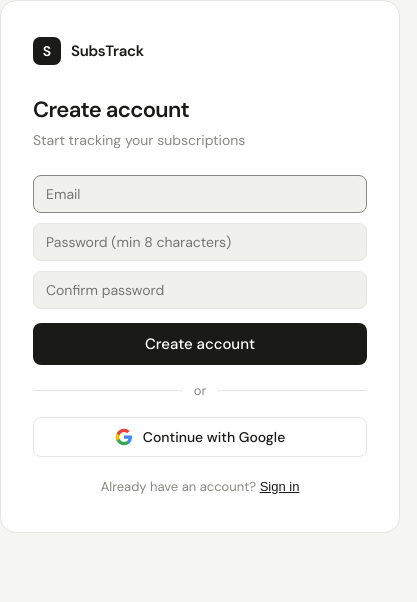
Register › shows error when passwords do not match
Type "a@b.com" into the field with placeholder "Email" at (200, 194), box [33,175,367,213]
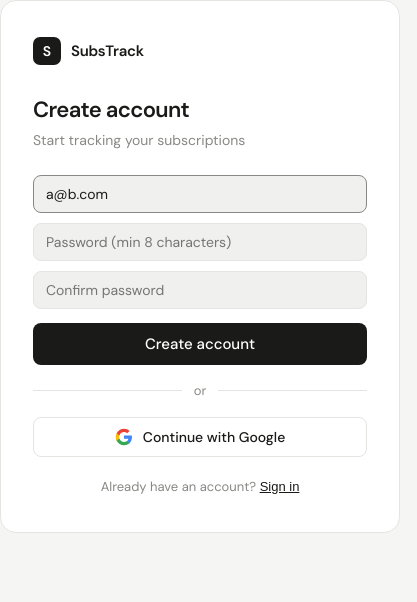
Type "password123" into the password field with placeholder "Password (min 8 characters)" at (200, 242), box [33,223,367,261]
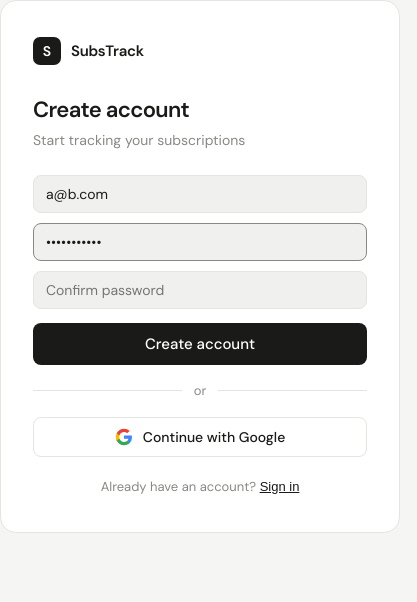
Type "different123" into the password field with placeholder "Confirm password" at (200, 290), box [33,271,367,309]
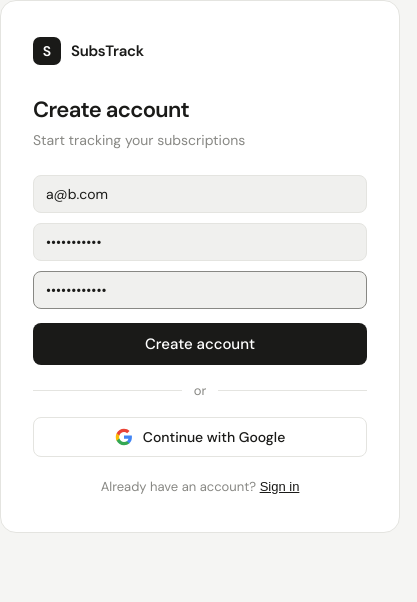
Click the button "Create account" at (200, 344), box [33,323,367,365]
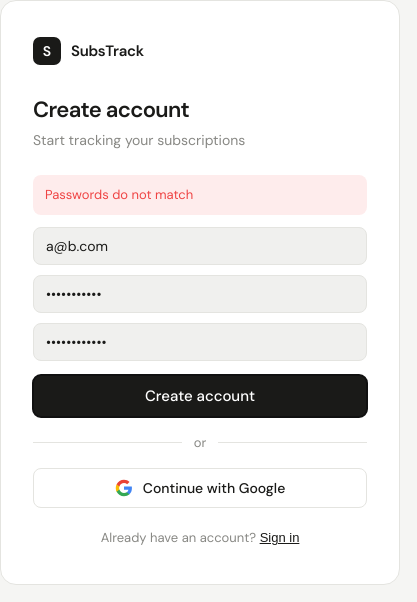
Result: the text "Passwords do not match" is shown at [33,175,367,214]
